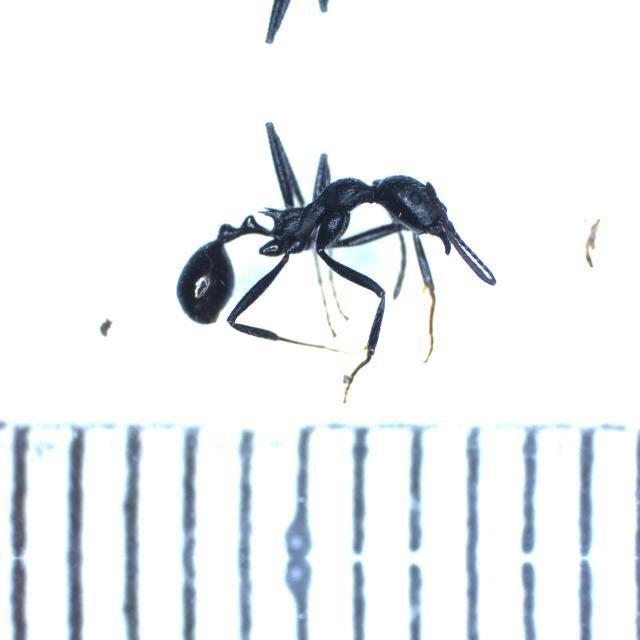Apheanogaster: (131, 136, 497, 352)
